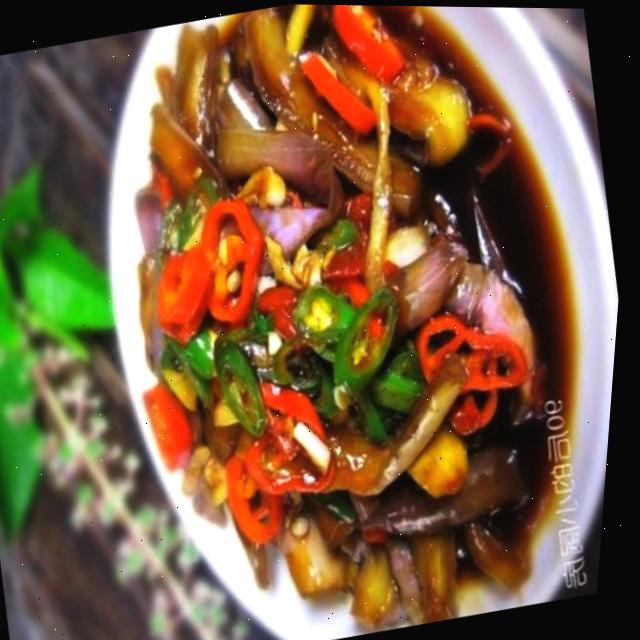鸡蛋料理: (47, 1, 640, 640)
